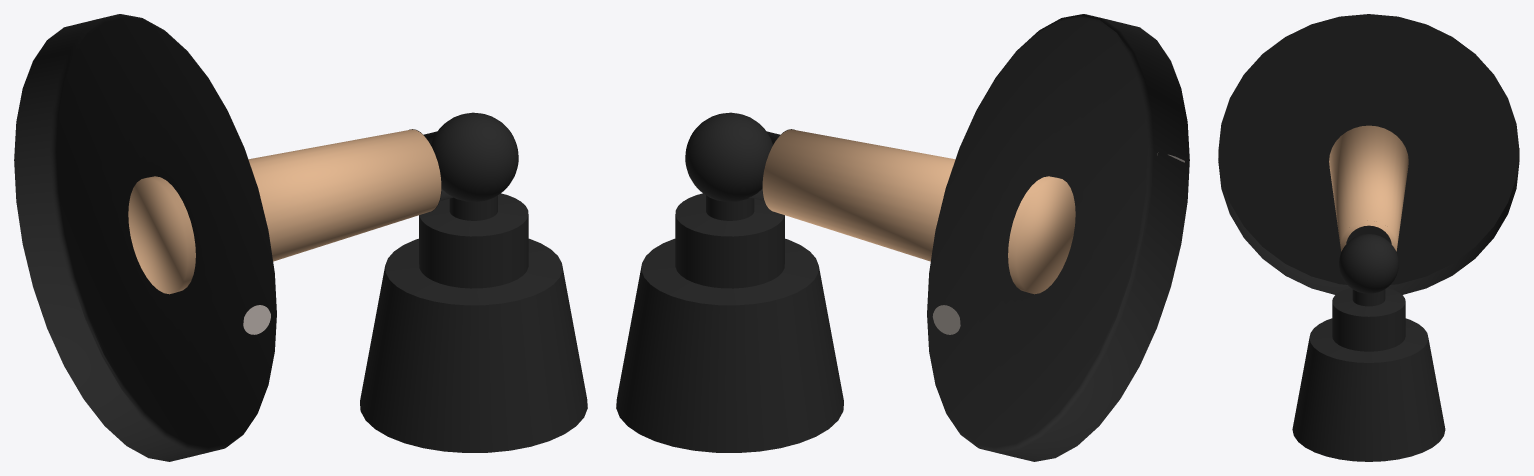
File: lampara_pared2.fbx
3 renders of one model, left to right at view 1: azimuth 30°, elevation 25°; view 2: azimuth 150°, elevation 25°; view 3: azimuth 270°, elevation 25°, orthographic. The views are drawn at different scales.
Parts seen in each view (by area): view 1: Pie_lampara; view 2: Pie_lampara; view 3: Pie_lampara.
Part boxes in pixels (x1,y1,x2,y2): Pie_lampara: [14, 14, 587, 461]; Pie_lampara: [616, 14, 1189, 461]; Pie_lampara: [1218, 14, 1519, 461].
Size of the model in its own units: 229 by 242 by 200.
